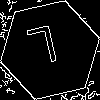L: (25, 25, 62, 75)
